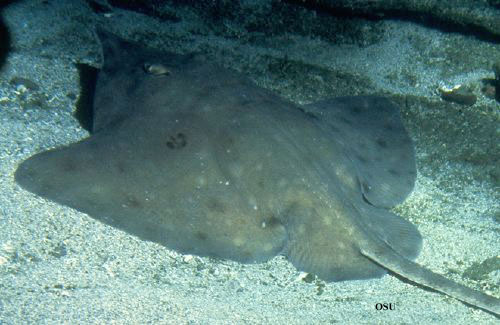Big Skate: (27, 11, 500, 325)
